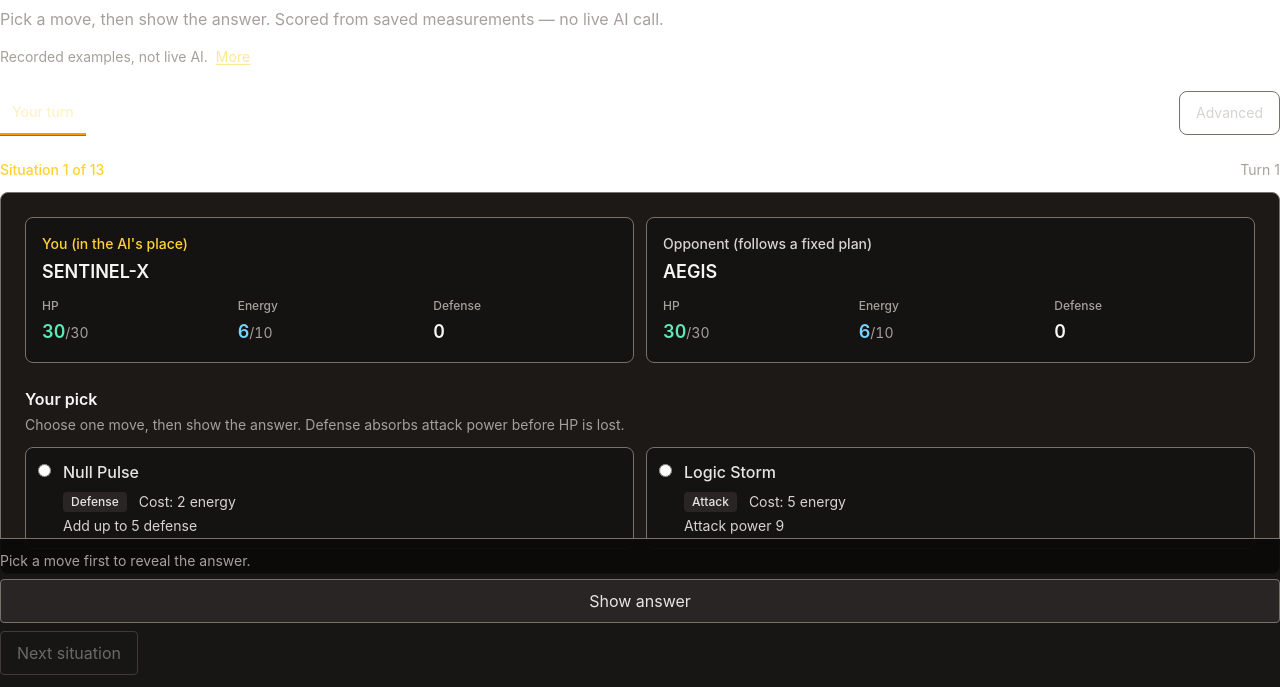
ComparePanel via DecisionLabView › groq base→grounded: 13 matched, 1 changed, 2.15→2.00
Click the button with test id "lab-advanced-toggle" at (1230, 113), box left=1179, top=91, right=1279, bottom=135
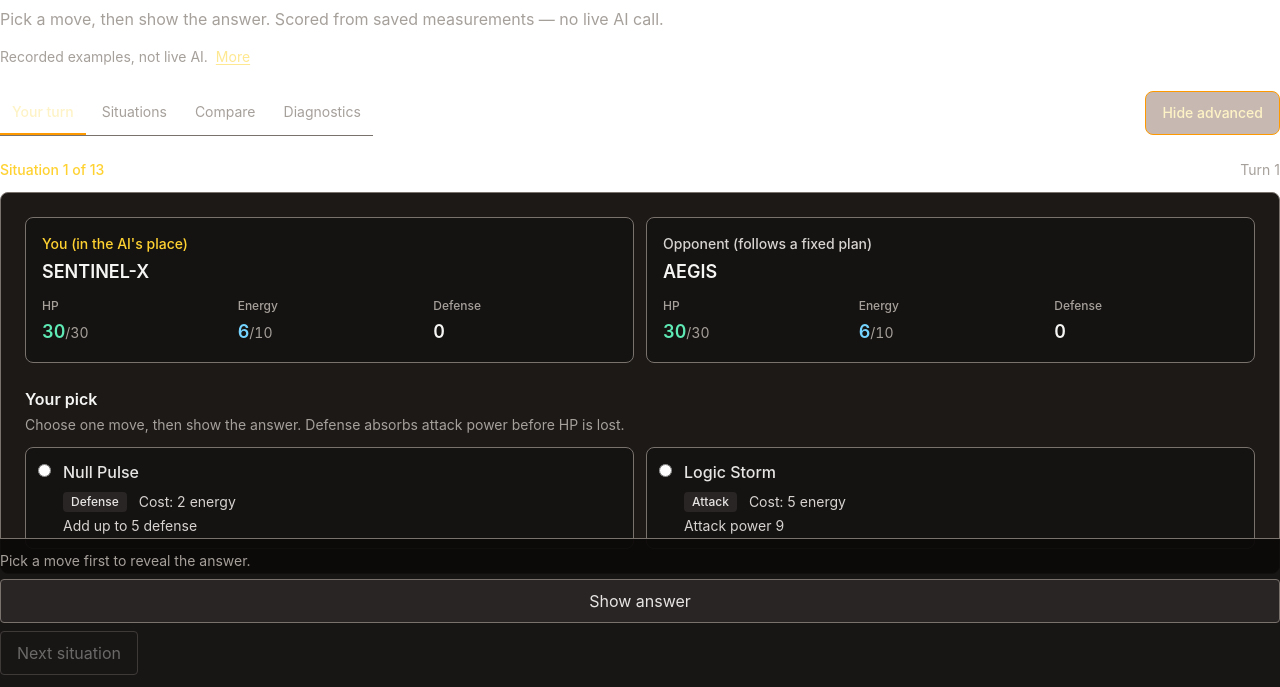
Click the tab "Compare" at (225, 113), box left=183, top=91, right=268, bottom=135
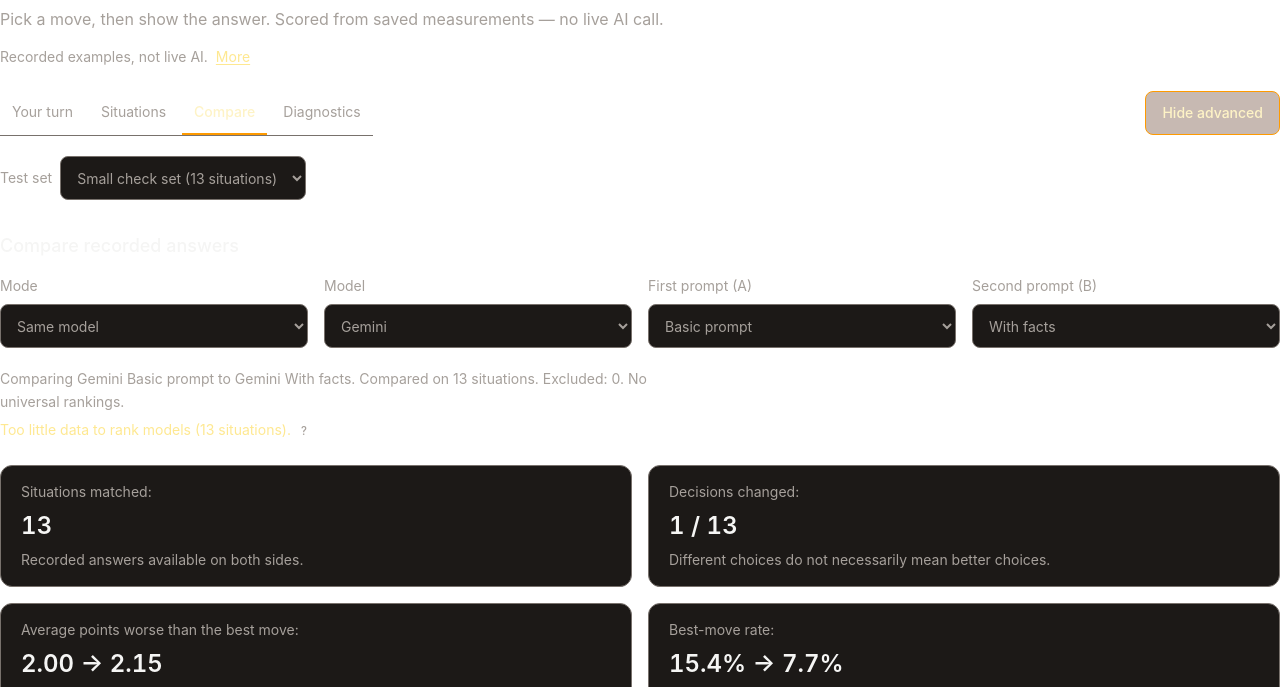
Select "Groq" in the dropdown with test id "compare-model" at (478, 326), box left=324, top=304, right=632, bottom=348
(page scrolled)
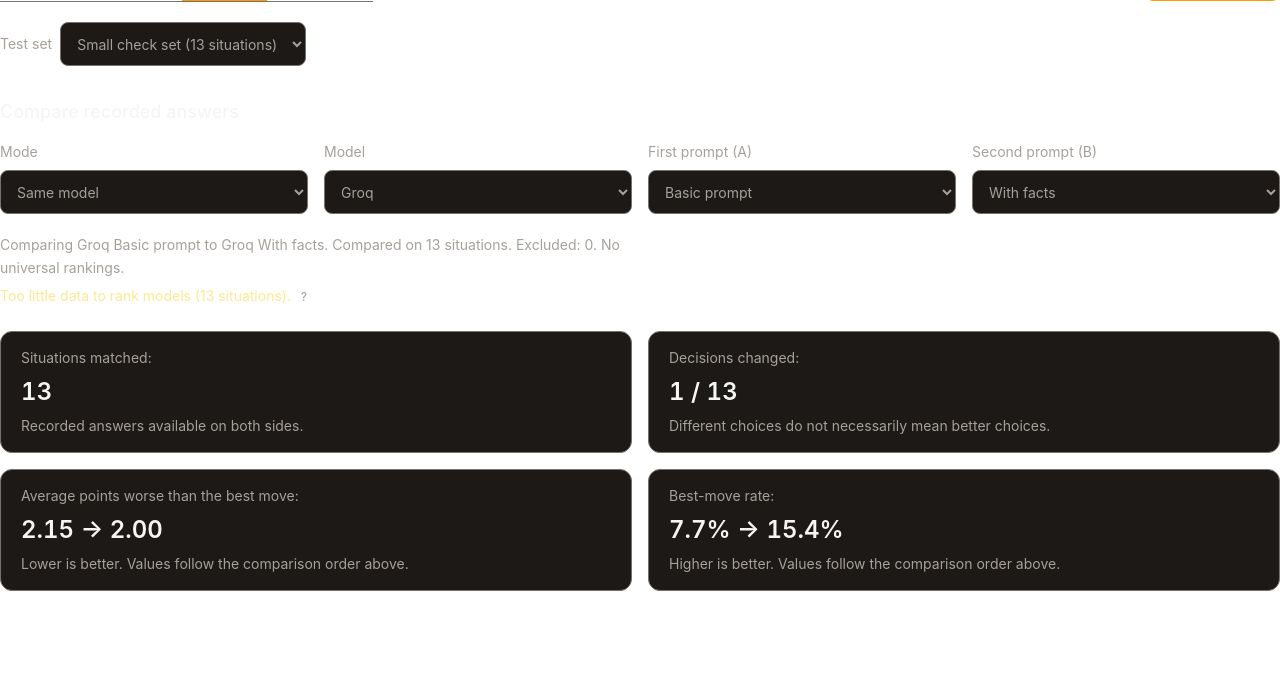
Expected: the element with test id "compare-matched" shows "Situations matched: 13", left=0, top=331, right=632, bottom=453
Expected: the element with test id "compare-changed" shows "Decisions changed: 1 / 13", left=648, top=331, right=1279, bottom=453
Expected: the element with test id "compare-mean" shows "2.15 → 2.00", left=0, top=469, right=632, bottom=591
